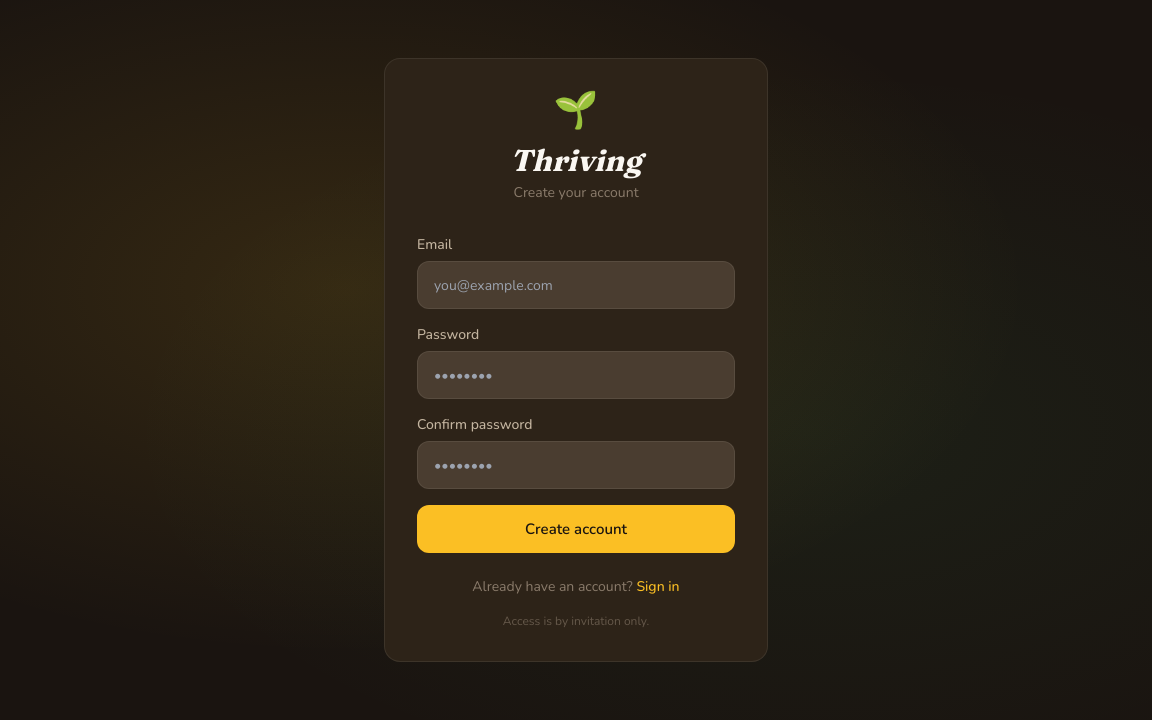
Test: SignupPage › shows error when passwords do not match
This screenshot has width=1152, height=720.
Type "abc123" into the password field labelled "Password" at (576,375), box [417, 351, 735, 399]
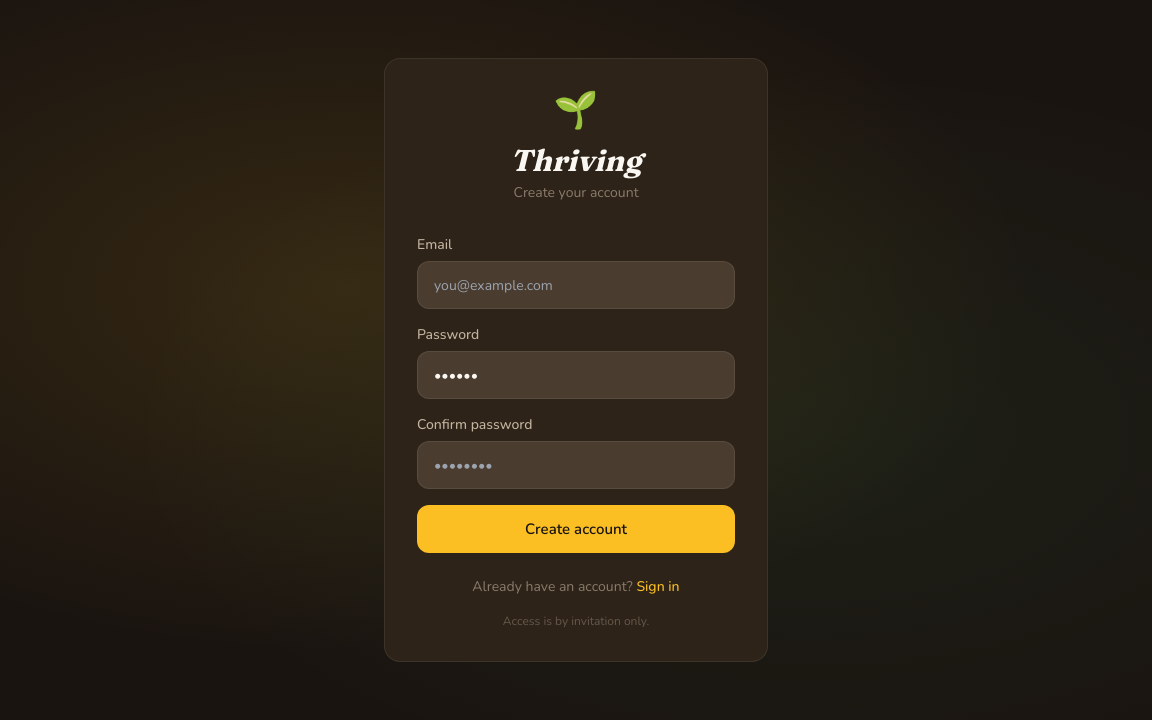
Type "xyz999" into the password field labelled "Confirm password" at (576,465), box [417, 441, 735, 489]
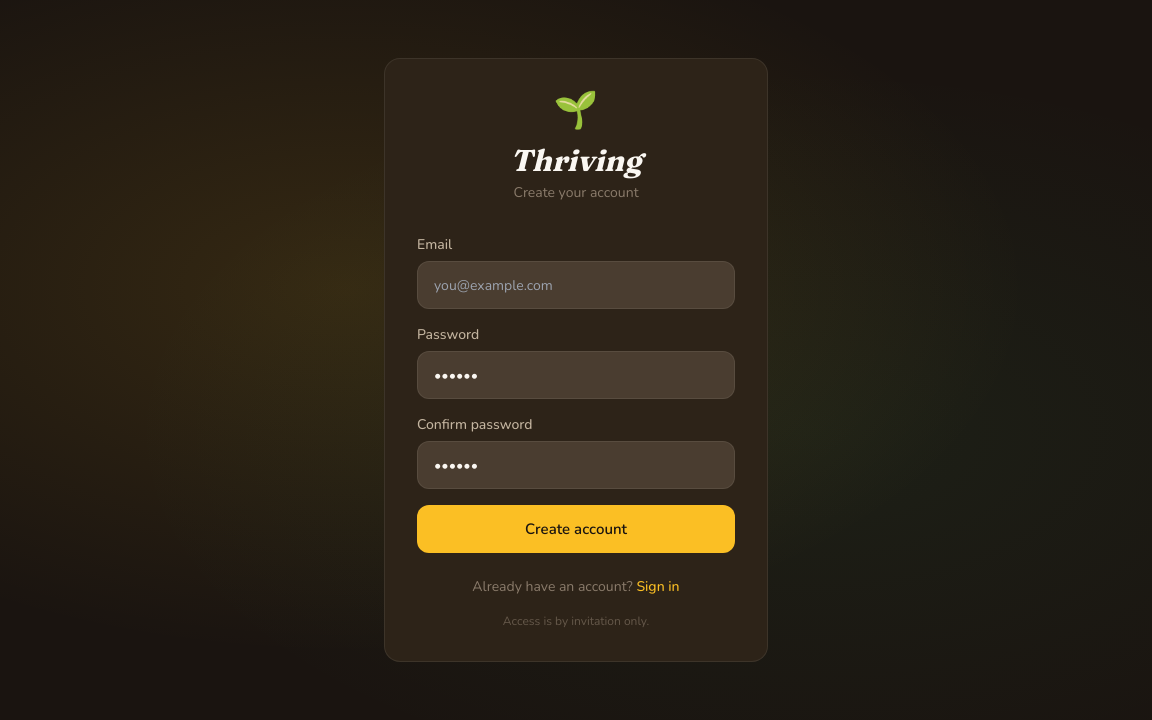
Submit the form "Email Password Confirm password Create account", box [417, 235, 735, 553]
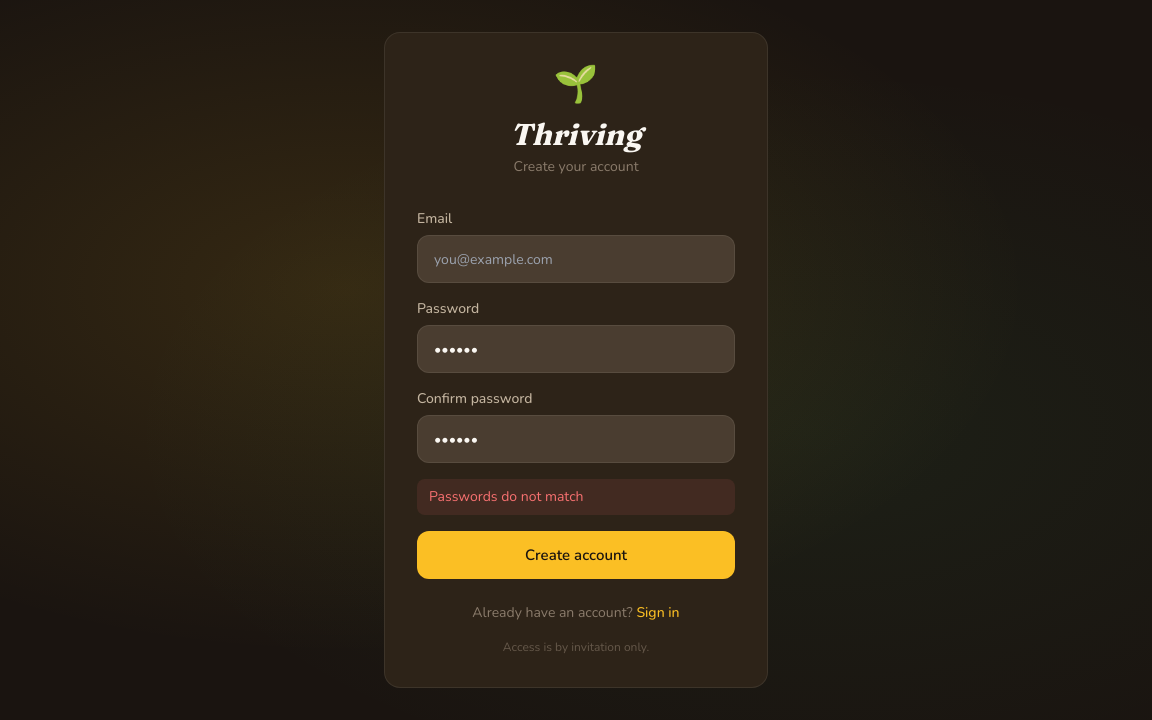
Expected: the text "Passwords do not match" is shown, [417, 479, 735, 515]
